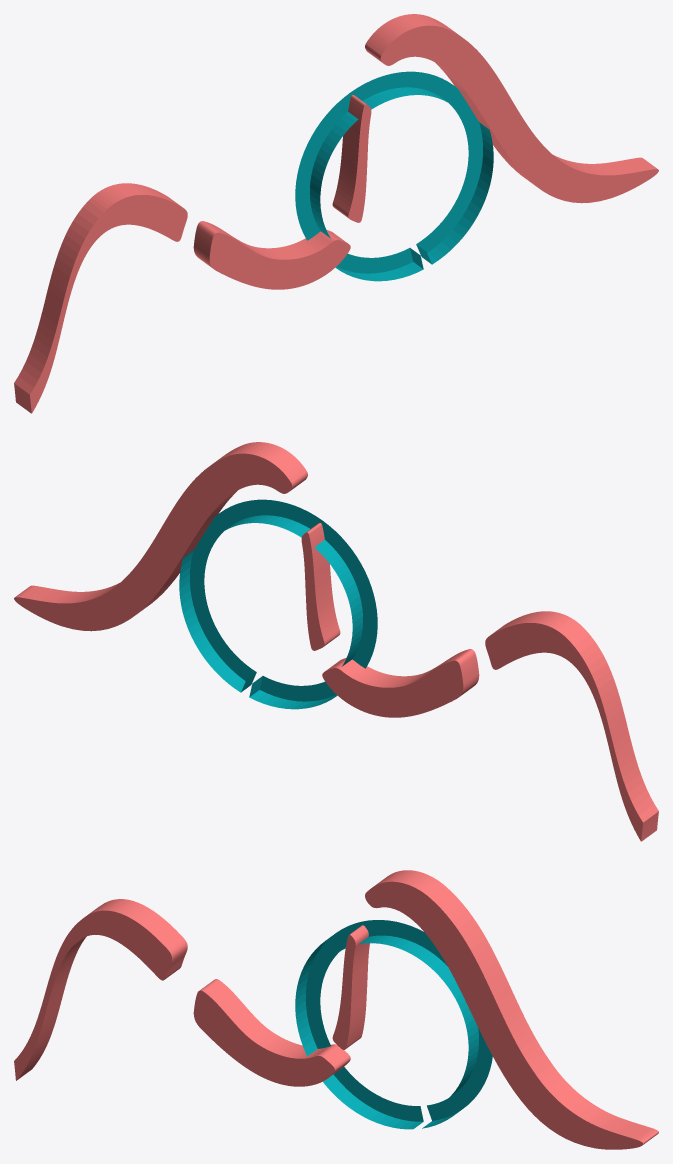
The model's file is add_loop_teal.glb.
3 views of the same model, one above another, from view 1: azimuth 30°, elevation 25°; view 2: azimuth 150°, elevation 25°; view 3: azimuth 330°, elevation 25° (orthographic).
Parts seen in each view (by area): view 1: shape_03, virtual_loop_teal, shape_00, shape_01, shape_02; view 2: shape_03, virtual_loop_teal, shape_00, shape_01, shape_02; view 3: shape_03, virtual_loop_teal, shape_00, shape_01, shape_02.
Boxes of the visible parts, box(x1,y1,x2,y2) form: shape_03: box(365, 14, 658, 203); virtual_loop_teal: box(295, 71, 493, 281); shape_00: box(14, 183, 187, 413); shape_01: box(193, 221, 350, 289); shape_02: box(332, 95, 371, 222); shape_03: box(14, 442, 307, 631); virtual_loop_teal: box(179, 499, 377, 709); shape_00: box(485, 611, 658, 841); shape_01: box(322, 649, 479, 717); shape_02: box(301, 523, 340, 650); shape_03: box(365, 870, 658, 1149); virtual_loop_teal: box(295, 920, 492, 1129); shape_00: box(14, 899, 187, 1080); shape_01: box(193, 979, 350, 1086); shape_02: box(332, 925, 369, 1049).
Size of the model in its own units: 6.9 by 3.06 by 0.3.
